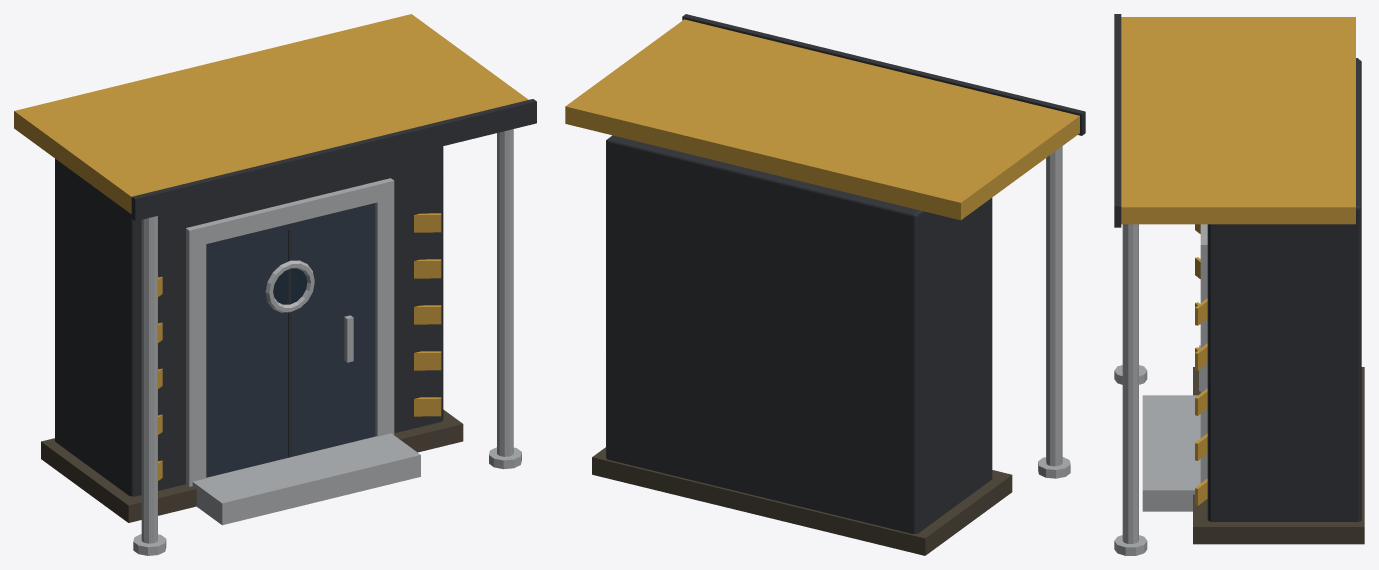
The model's file is airlock_ext.glb.
3 views of the same model, side by side, from view 1: azimuth 30°, elevation 25°; view 2: azimuth 150°, elevation 25°; view 3: azimuth 270°, elevation 25° (orthographic).
Parts seen in each view (by area): view 1: airlock_ext_graphite, airlock_ext_paint_amber, airlock_ext_metal, door, plinth, port; view 2: airlock_ext_graphite, airlock_ext_paint_amber, plinth, airlock_ext_metal; view 3: airlock_ext_paint_amber, airlock_ext_graphite, airlock_ext_metal, plinth.
Boxes of the visible parts, x1=… form: airlock_ext_graphite: x1=55, y1=99, x2=536, y2=496; airlock_ext_paint_amber: x1=14, y1=14, x2=528, y2=480; airlock_ext_metal: x1=133, y1=129, x2=521, y2=555; door: x1=206, y1=203, x2=375, y2=477; plinth: x1=41, y1=409, x2=463, y2=522; port: x1=273, y1=268, x2=307, y2=304; airlock_ext_graphite: x1=606, y1=14, x2=1085, y2=533; airlock_ext_paint_amber: x1=565, y1=19, x2=1079, y2=220; plinth: x1=592, y1=447, x2=1012, y2=555; airlock_ext_metal: x1=1038, y1=146, x2=1070, y2=478; airlock_ext_paint_amber: x1=1121, y1=17, x2=1355, y2=505; airlock_ext_graphite: x1=1114, y1=14, x2=1361, y2=521; airlock_ext_metal: x1=1114, y1=224, x2=1207, y2=555; plinth: x1=1193, y1=367, x2=1364, y2=544.
Size of the model in its own units: 3.84 by 3.3 by 2.11.
